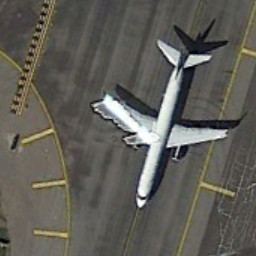Airplane: (99, 31, 235, 214)
